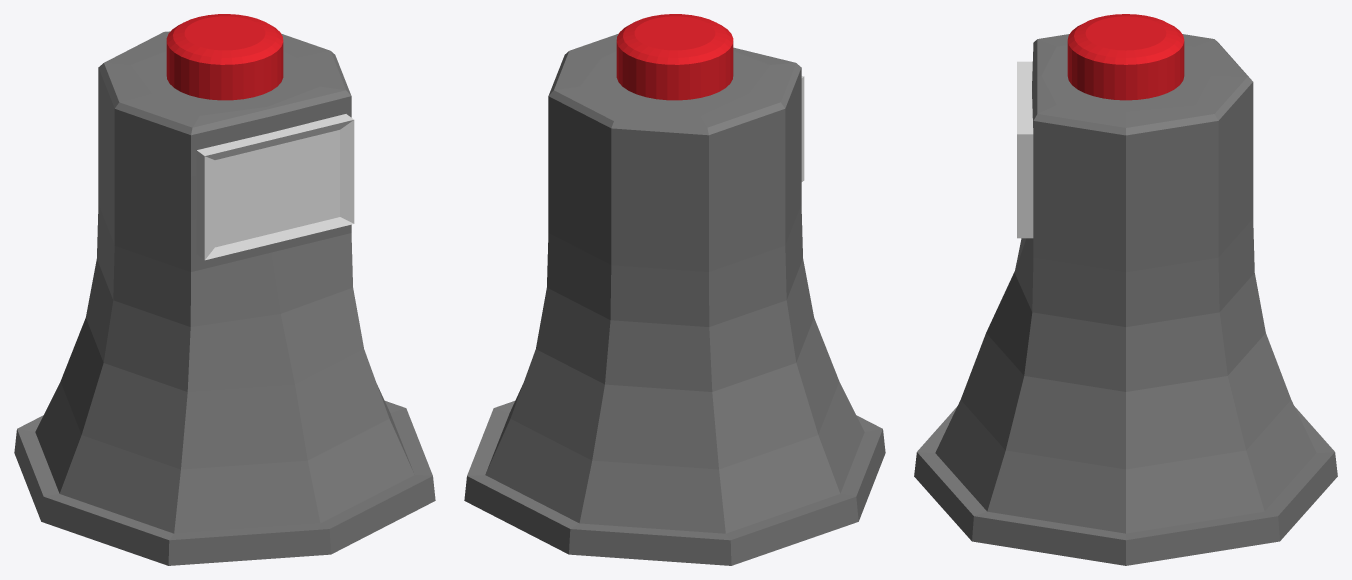
The model's file is PhysicalButton.fbx.
The picture shows the model from 3 angles, left to right: view 1: azimuth 30°, elevation 25°; view 2: azimuth 150°, elevation 25°; view 3: azimuth 270°, elevation 25°; orthographic projection.
Visible parts, largest first — view 1: Base, Face, Top; view 2: Base, Top; view 3: Base, Top, Face.
Boxes of the visible parts, x1,y1,x2,y2 form: Base: [14, 31, 435, 565]; Face: [196, 114, 354, 260]; Top: [166, 14, 283, 100]; Base: [464, 33, 885, 565]; Top: [616, 14, 733, 100]; Base: [914, 34, 1337, 565]; Top: [1067, 14, 1184, 100]; Face: [1017, 61, 1033, 238].
Bounding box in the file's own units: 90.28 × 104 × 90.28.
